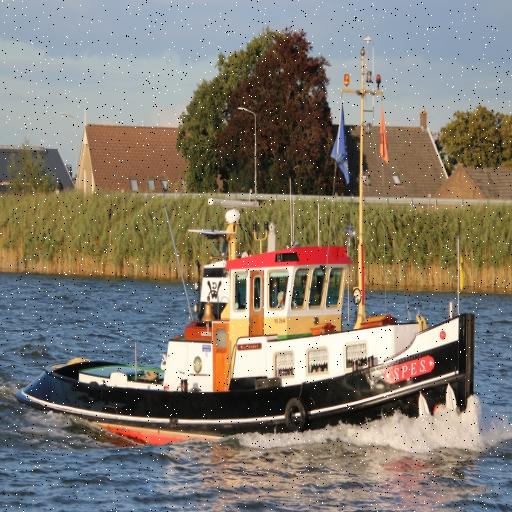tugboat: (11, 193, 480, 454)
